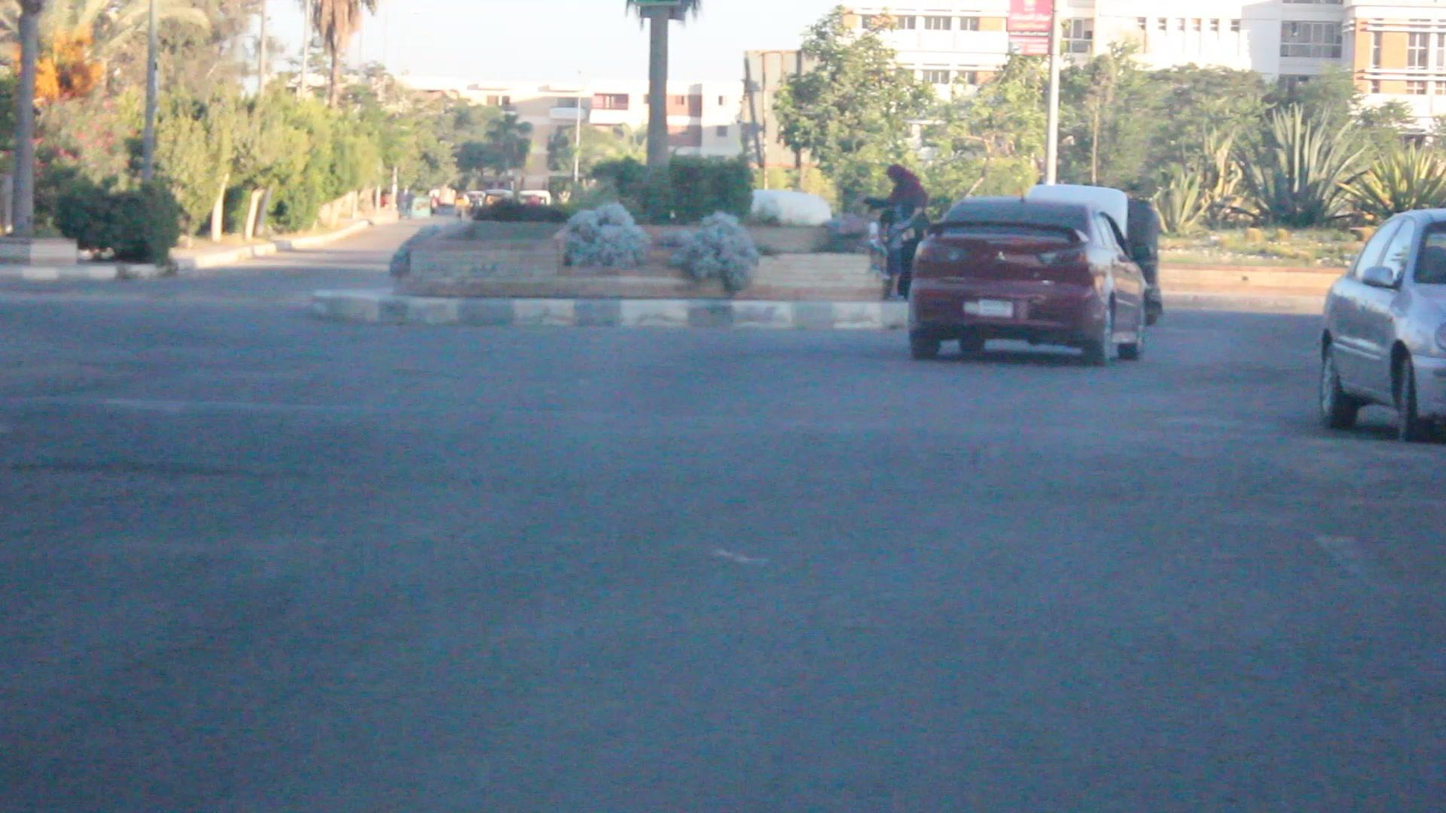Bump: (24, 391, 1446, 527)
